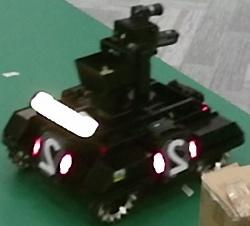back_2: (39, 133, 63, 178)
light: (30, 91, 100, 138)
right_2: (162, 138, 193, 177)
